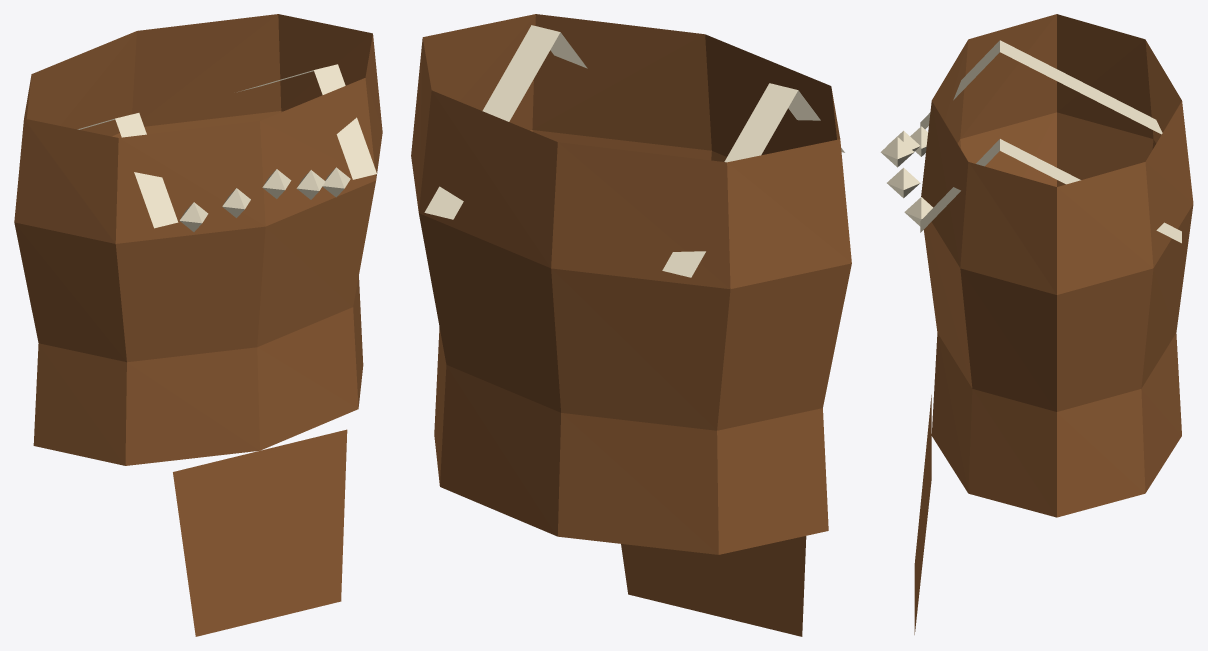
File: part_torso.obj
3 renders of one model, left to right at view 1: azimuth 30°, elevation 25°; view 2: azimuth 150°, elevation 25°; view 3: azimuth 270°, elevation 25°, orthographic. The views are drawn at different scales.
Parts seen in each view (by area): view 1: CavemanTorso; view 2: CavemanTorso; view 3: CavemanTorso.
Part boxes in pixels (x1,y1,x2,y2): CavemanTorso: (14, 14, 382, 636); CavemanTorso: (411, 14, 851, 636); CavemanTorso: (880, 14, 1193, 634).
Bounding box in the file's own units: 0.76 × 0.98 × 0.55.
